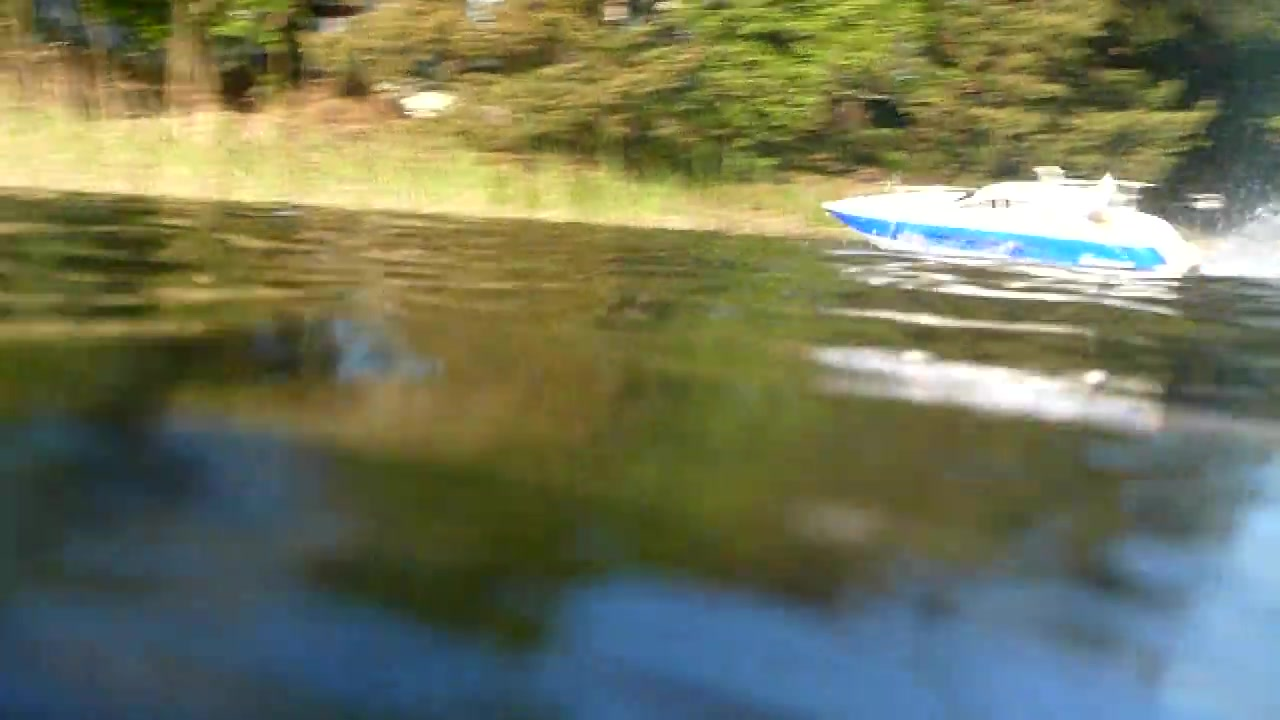boat: (816, 163, 1203, 293)
